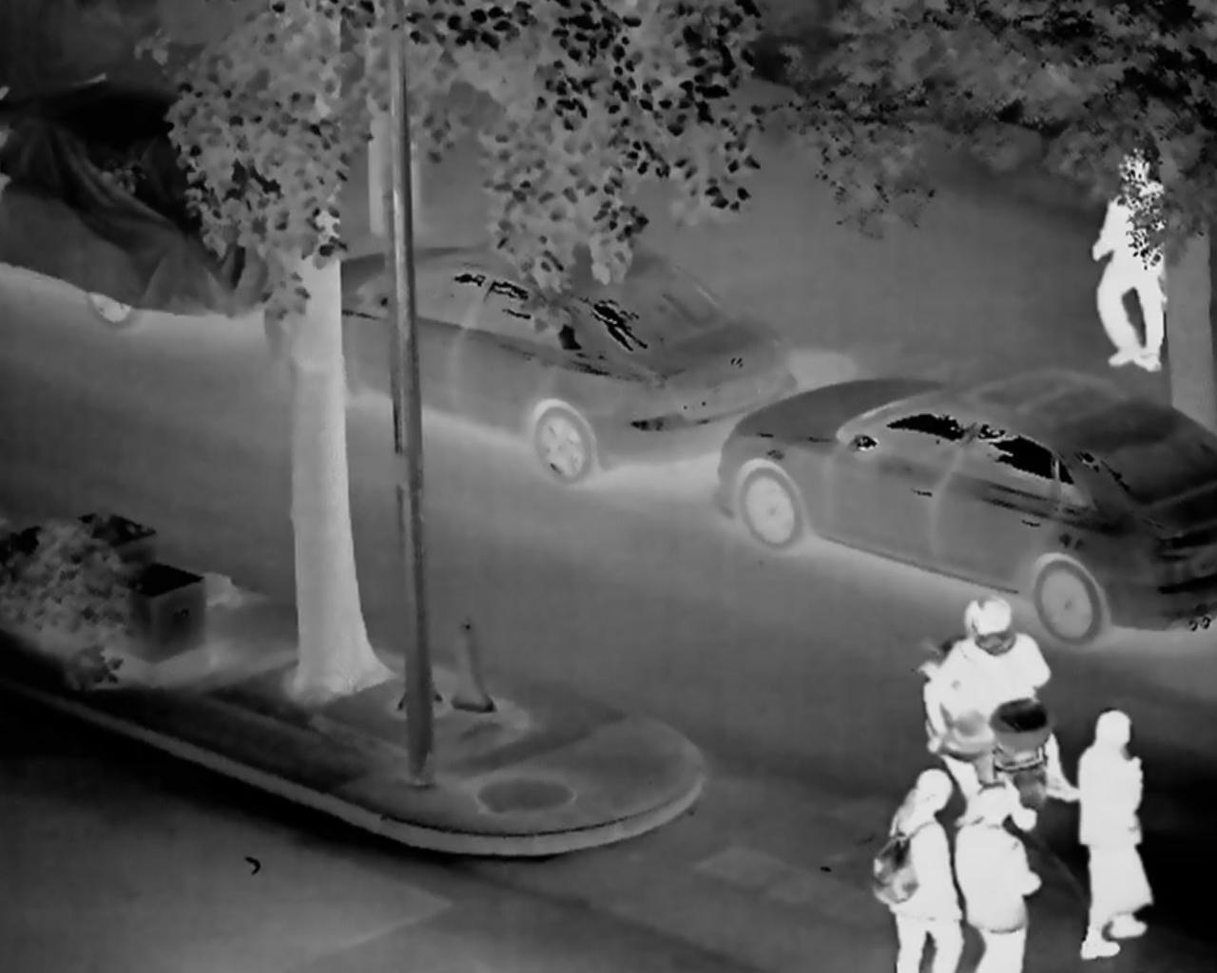person: (898, 578, 1047, 805), (1071, 703, 1167, 973), (949, 776, 1054, 973), (1088, 144, 1175, 374), (879, 761, 957, 973)
